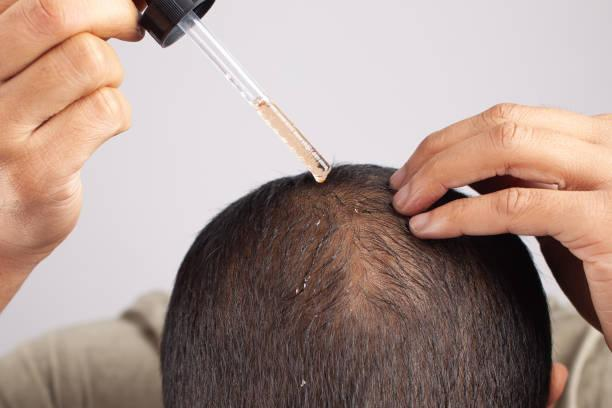dandruff: (288, 269, 328, 304), (293, 367, 311, 391), (310, 212, 328, 231)
